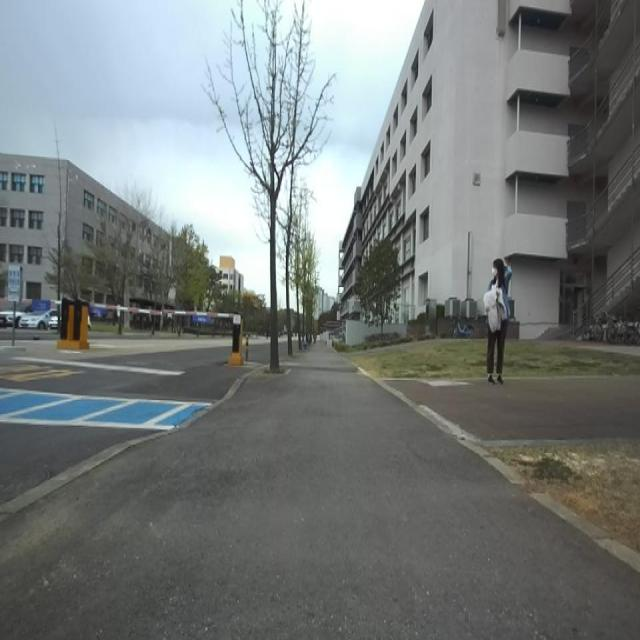sidewalk: (0, 347, 640, 639), (1, 431, 173, 521), (174, 365, 265, 434)
